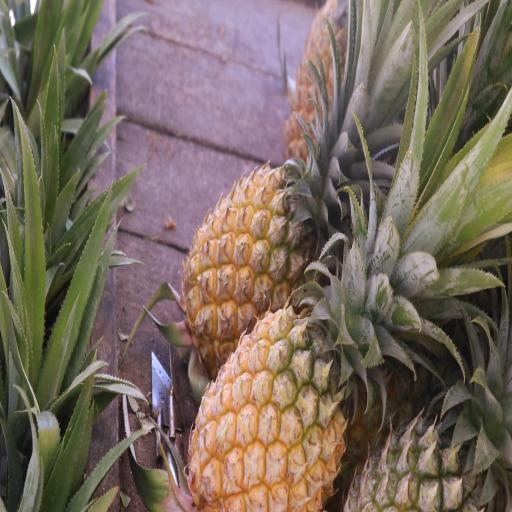Pineapple - v8 v1: (183, 278, 352, 512), (176, 155, 336, 377)
